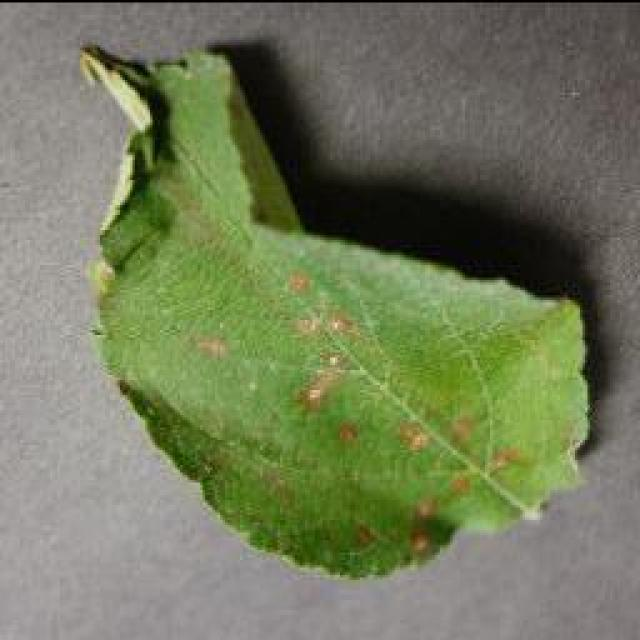apple cedar apple rust: (75, 40, 595, 582)
